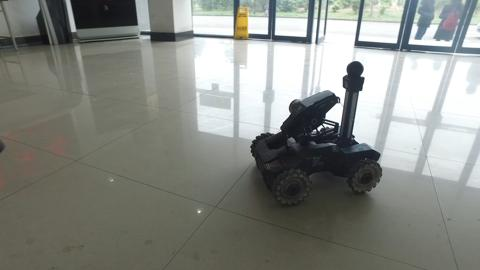chariot: (249, 59, 382, 206)
